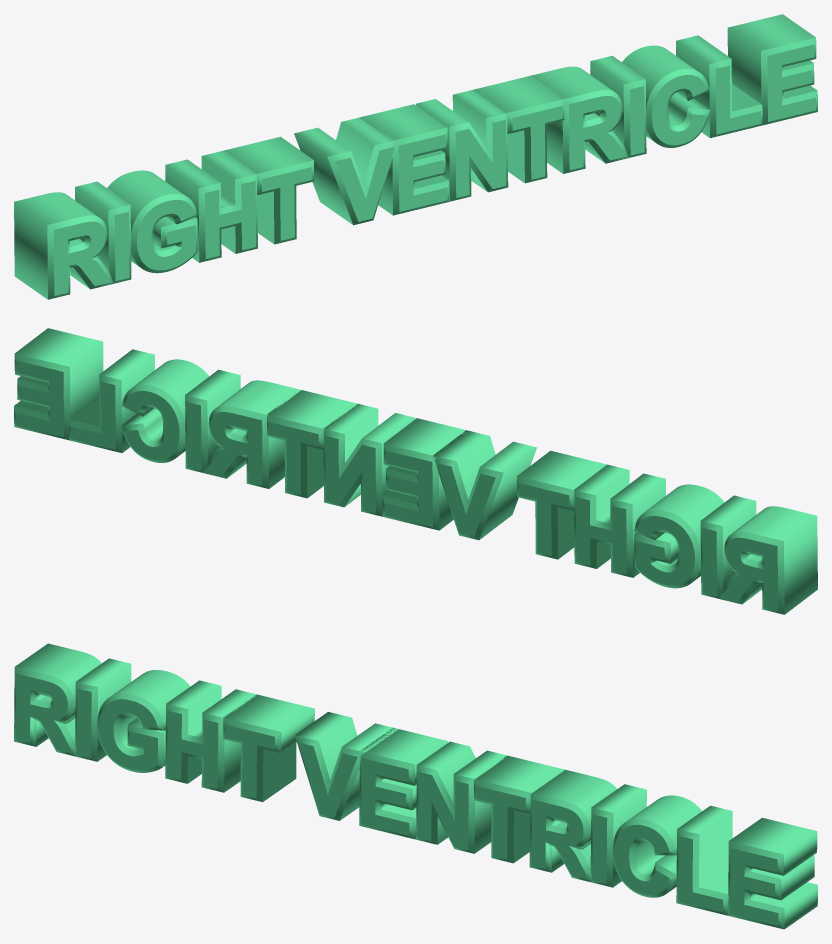
The model's file is R.VENTRICLE.fbx.
The picture shows the model from 3 angles, top to bottom: view 1: azimuth 30°, elevation 25°; view 2: azimuth 150°, elevation 25°; view 3: azimuth 330°, elevation 25°; orthographic projection.
Parts seen in each view (by area): view 1: Text; view 2: Text; view 3: Text.
Boxes of the visible parts, box(x1,y1,x2,y2) form: Text: box(14, 14, 817, 299); Text: box(14, 328, 817, 614); Text: box(14, 643, 817, 929).
Bounding box in the file's own units: 6.32 × 0.6068 × 0.5489.
